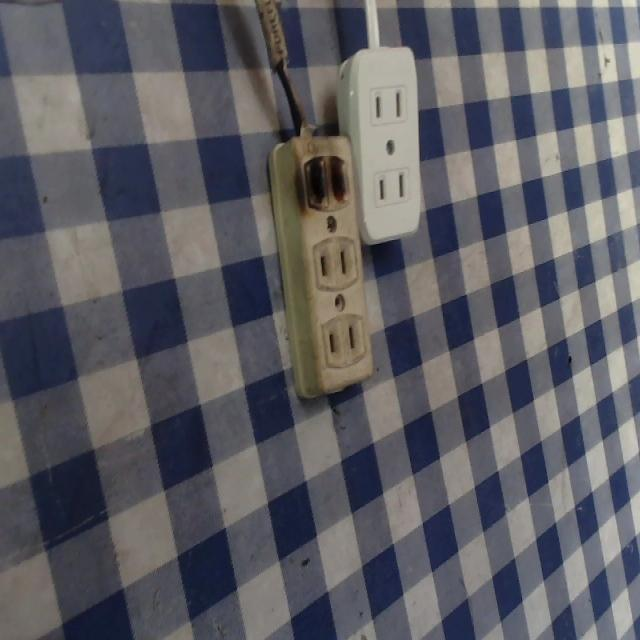-: (285, 148, 359, 217)
